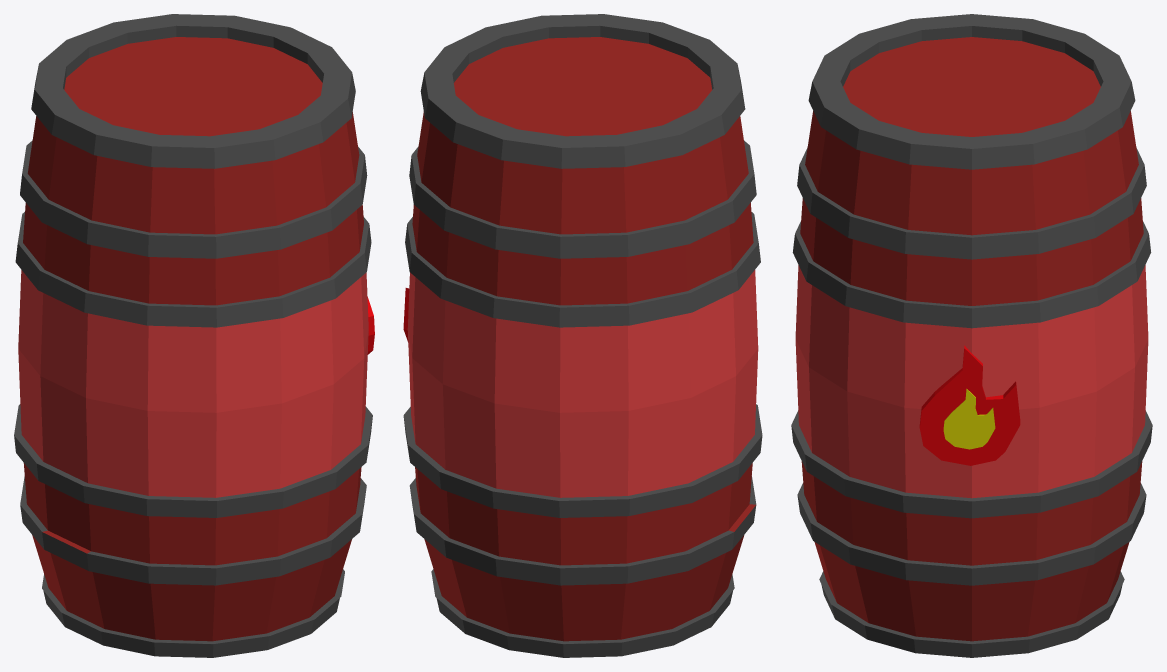
Rendered from explosiveBarrel.fbx.
3 renders of one model, left to right at view 1: azimuth 30°, elevation 25°; view 2: azimuth 150°, elevation 25°; view 3: azimuth 270°, elevation 25°, orthographic.
Visible parts, largest first — view 1: Cylinder; view 2: Cylinder; view 3: Cylinder, Cube, Cube.001.
Part boxes in pixels (x1=…): Cylinder: x1=14, y1=14, x2=372, y2=657; Cylinder: x1=403, y1=14, x2=762, y2=657; Cylinder: x1=791, y1=14, x2=1152, y2=657; Cube: x1=919, y1=345, x2=1020, y2=465; Cube.001: x1=943, y1=389, x2=995, y2=449.
Bounding box in the file's own units: 209 × 328 × 209.
